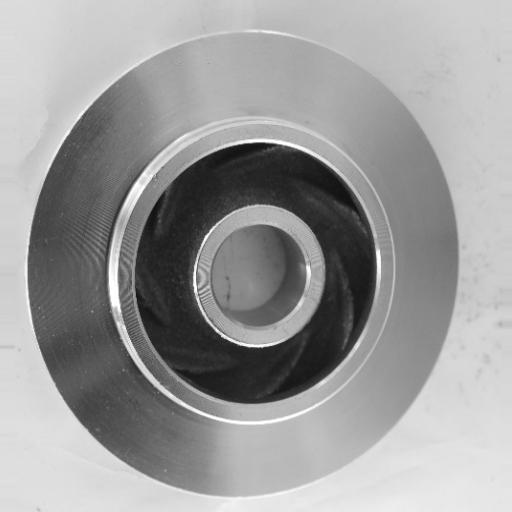polished_casting: (25, 28, 462, 500)
